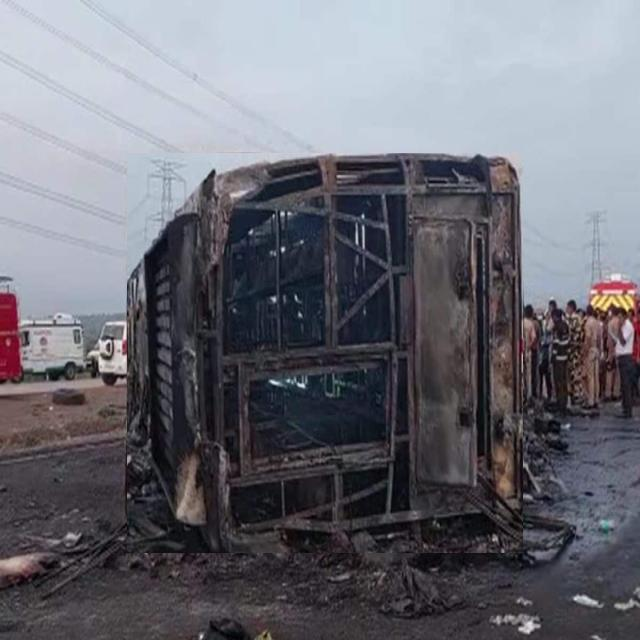bus: (127, 154, 522, 553)
